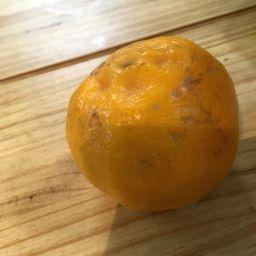Ripe: (69, 35, 242, 208)
